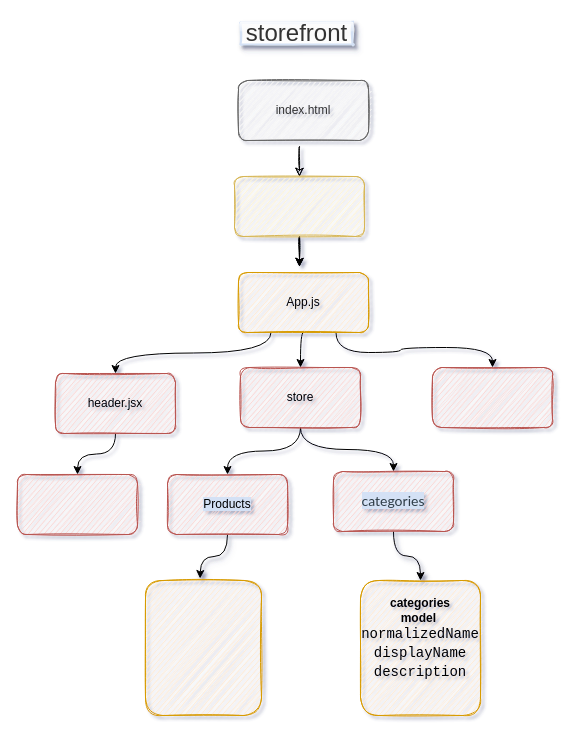
This 576x739 diagram has some shape labels left out. The shapes that lost their labels are listed below. From the top down, each one's centre as x and y in pixels, then its label:
At (299,206): "index.js".
At (492,397): "footer".
At (77,504): "Cart".
At (203,648): "product model name price description inventory".
